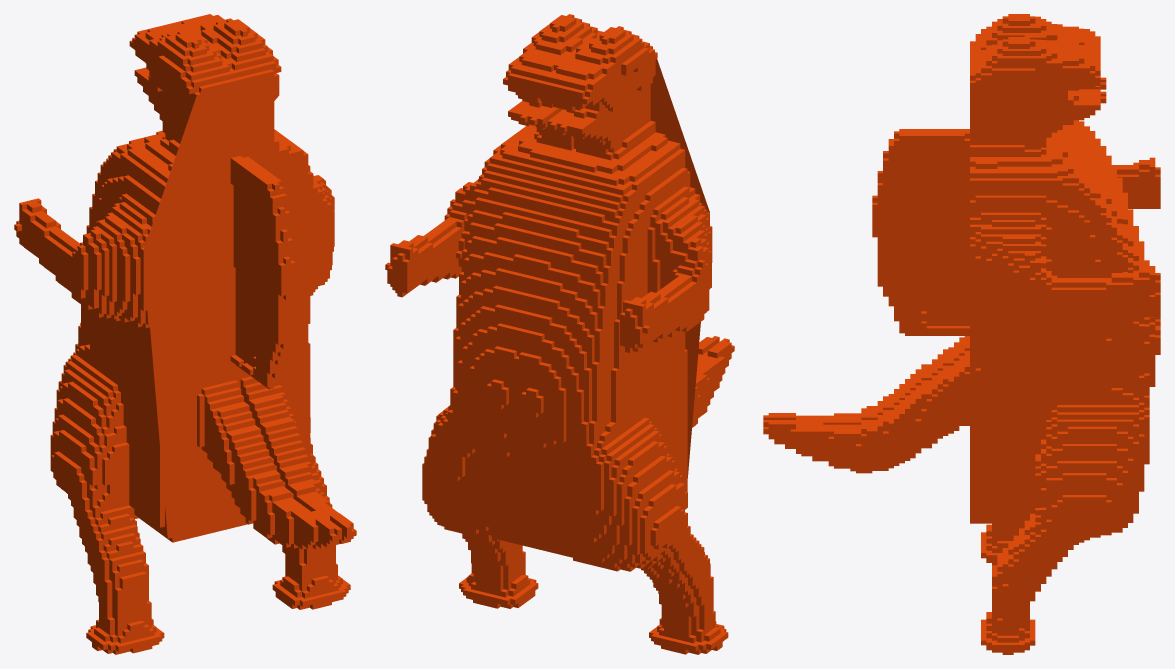
Rendered from Spinosuarus.fbx.
3 renders of one model, left to right at view 1: azimuth 30°, elevation 25°; view 2: azimuth 150°, elevation 25°; view 3: azimuth 270°, elevation 25°, orthographic. The views are drawn at different scales.
Visible parts, largest first — view 1: Spinosaurus.001; view 2: Spinosaurus.001; view 3: Spinosaurus.001.
Boxes of the visible parts, left/top/right/bottom form: Spinosaurus.001: left=14, top=14, right=356, bottom=654; Spinosaurus.001: left=385, top=14, right=734, bottom=654; Spinosaurus.001: left=763, top=14, right=1160, bottom=654.
Size of the model in its own units: 385 by 835 by 530.
